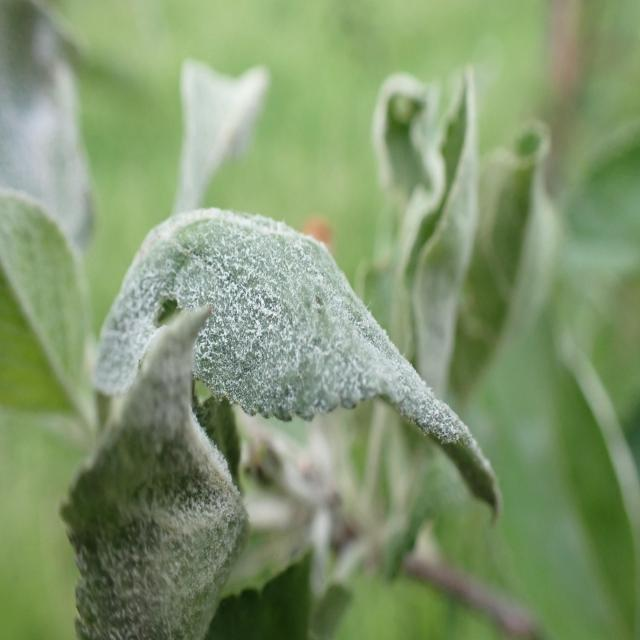Powdery_mildew: (53, 186, 521, 640), (352, 66, 566, 538), (165, 47, 278, 229)
